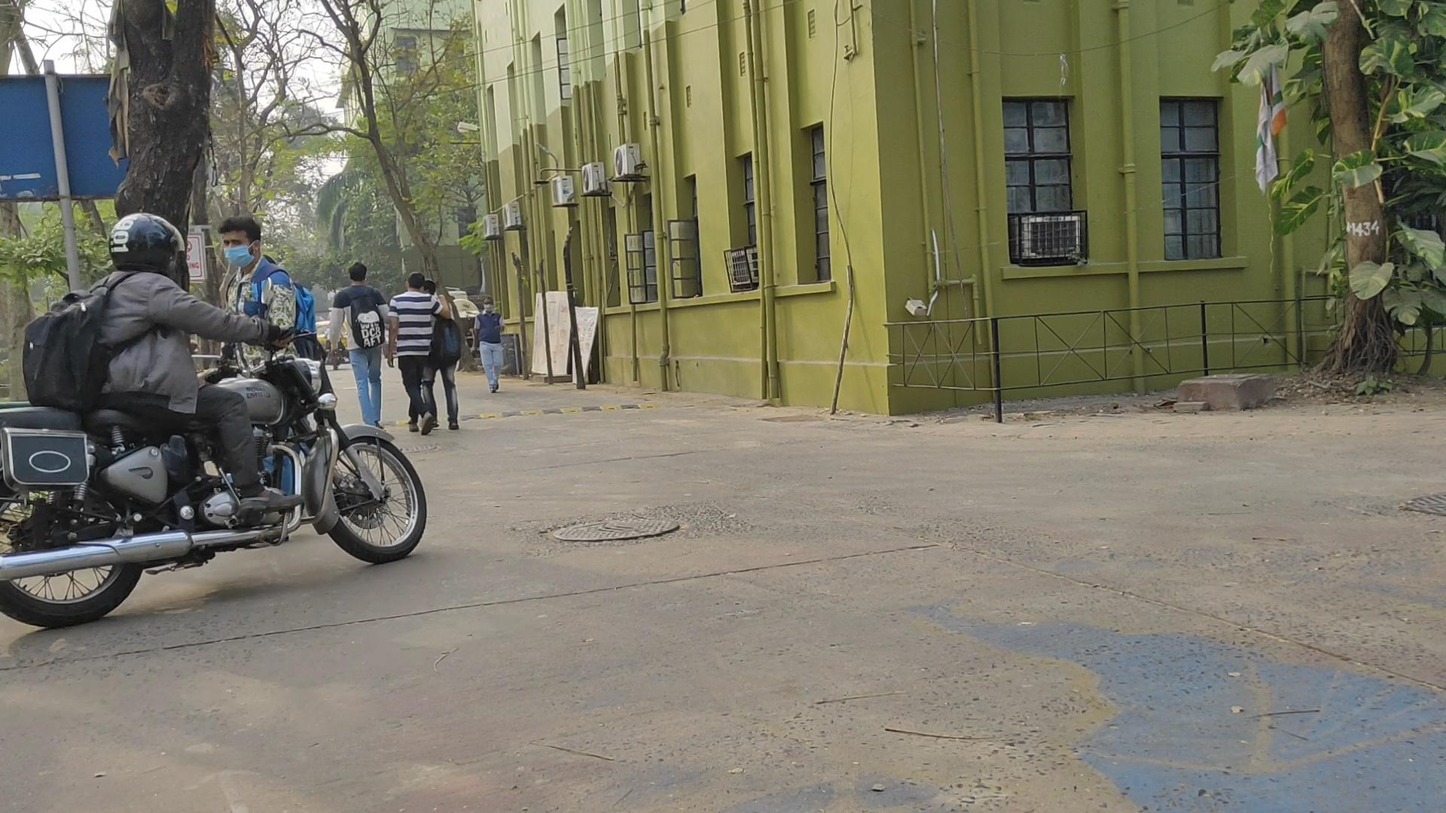bike: (1, 212, 426, 629)
